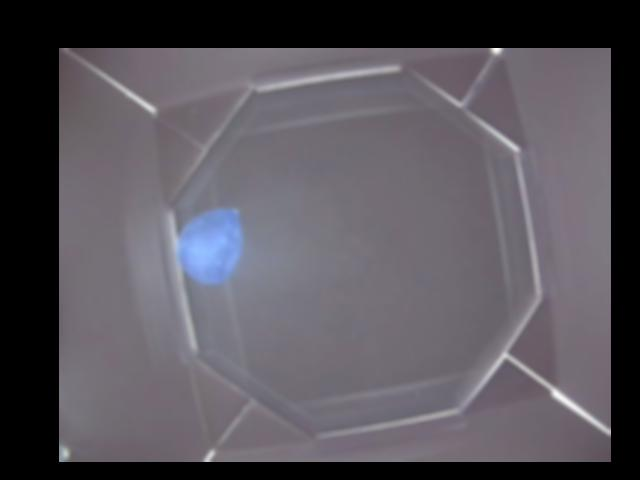Potato: (172, 204, 241, 282)
